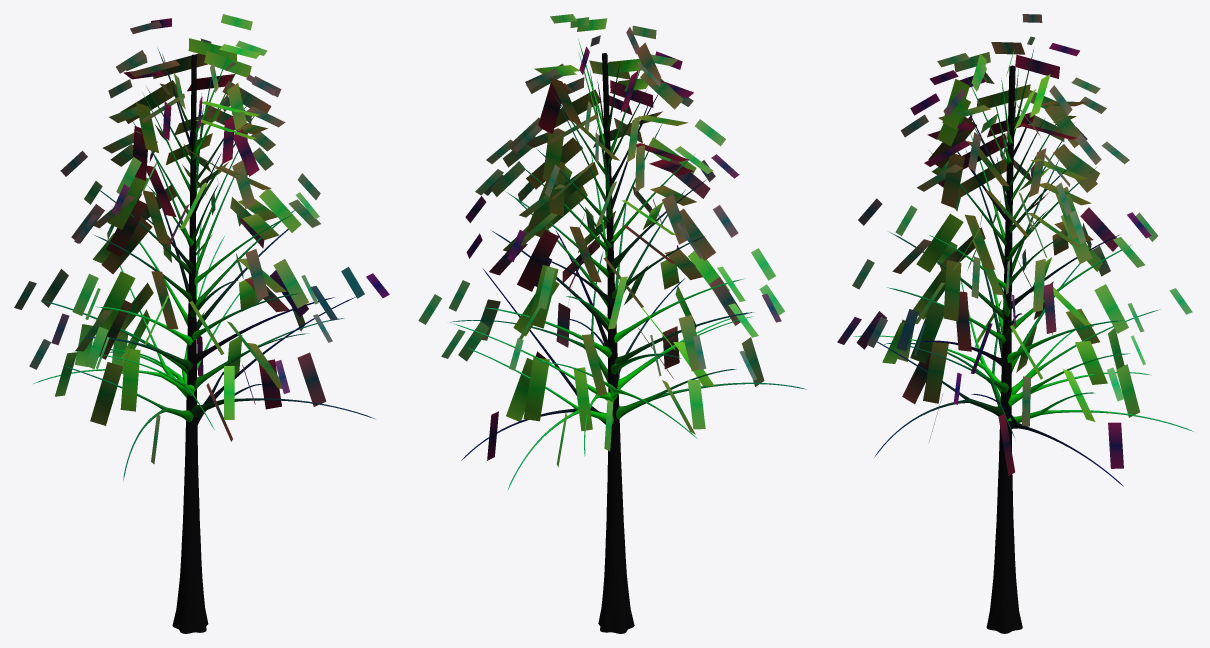
The model's file is tree.fbx.
3 renders of one model, left to right at view 1: azimuth 30°, elevation 25°; view 2: azimuth 150°, elevation 25°; view 3: azimuth 270°, elevation 25°, orthographic.
Parts seen in each view (by area): view 1: _1, _0; view 2: _1, _0; view 3: _1, _0.
Part boxes in pixels (box(x1,y1,x2,y2)): _1: box(14, 14, 389, 463); _0: box(33, 48, 375, 633); _1: box(418, 14, 784, 467); _0: box(450, 39, 806, 633); _1: box(837, 14, 1192, 476); _0: box(853, 49, 1193, 633).
Bounding box in the file's own units: 300 × 534 × 289.
